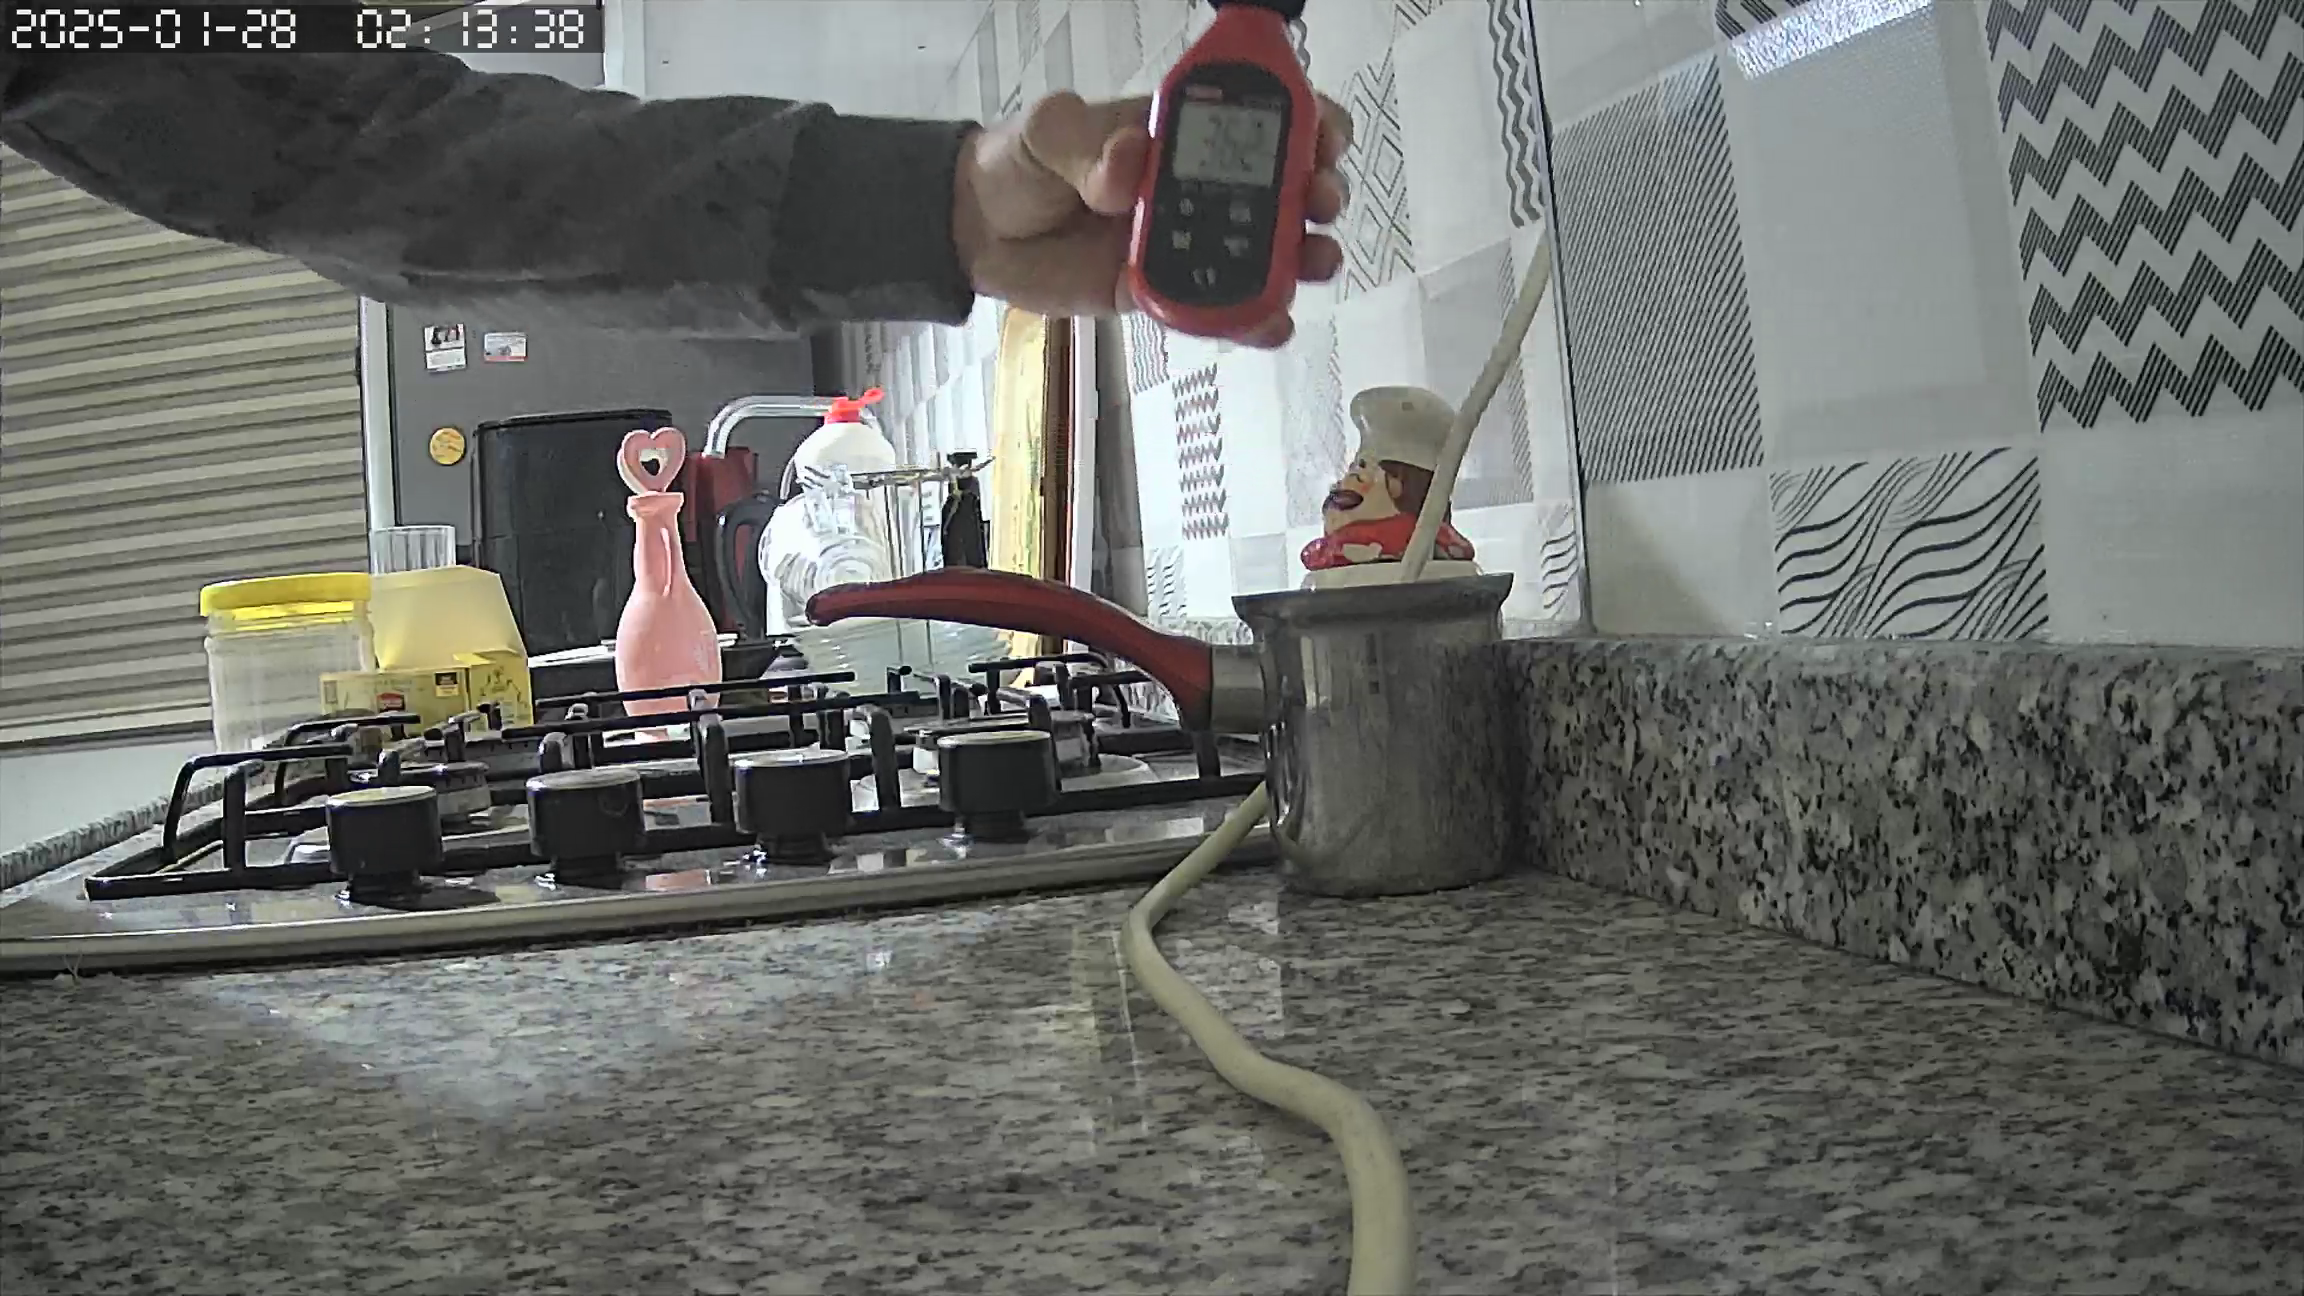screen: (1171, 97, 1283, 191)
